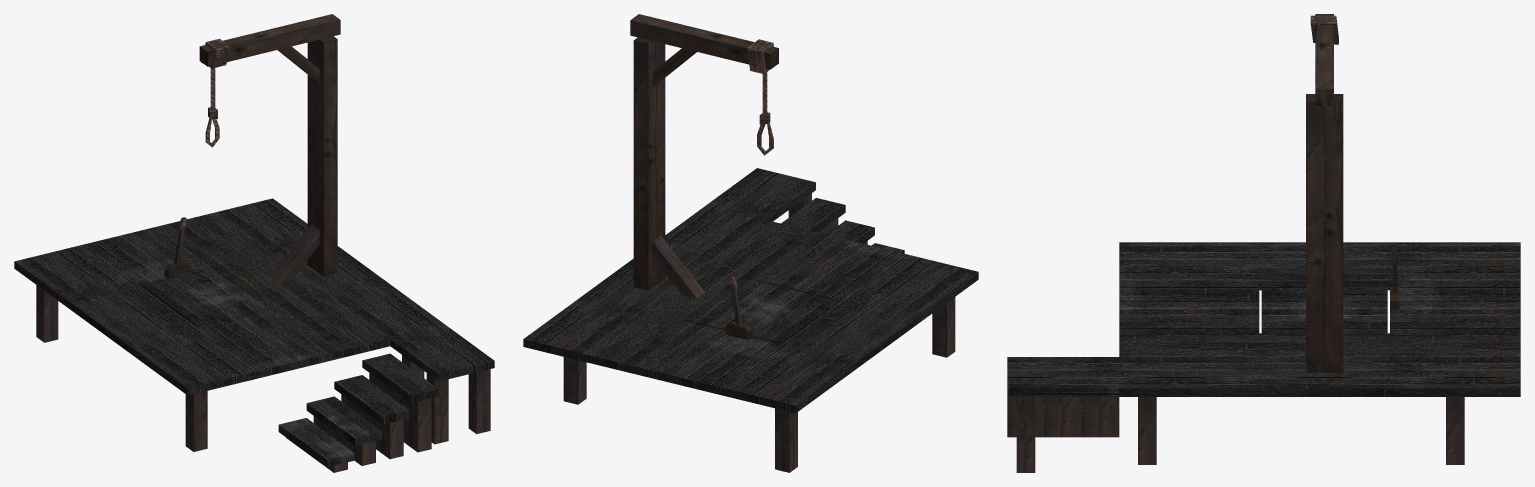
File: gallows.gltf
The picture shows the model from 3 angles, left to right: view 1: azimuth 30°, elevation 25°; view 2: azimuth 150°, elevation 25°; view 3: azimuth 270°, elevation 25°; orthographic projection. The views are drawn at different scales.
Parts seen in each view (by area): view 1: gallows; view 2: gallows; view 3: gallows.
Boxes of the visible parts, x1,y1,x2,y2 form: gallows: (14,14,494,472); gallows: (523,14,978,472); gallows: (1007,14,1520,472).
Size of the model in its own units: 4.62 by 5.53 by 6.88.
Materials: 5 (5 with a texture image).
